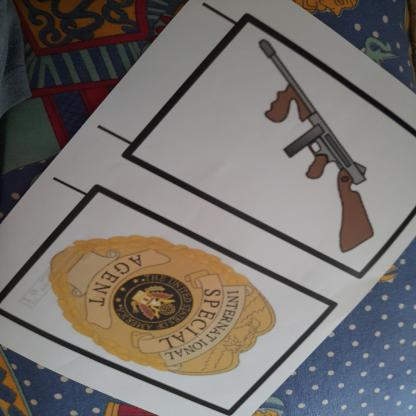Bootlegger: (244, 28, 389, 259)
G-man: (31, 226, 294, 388)
